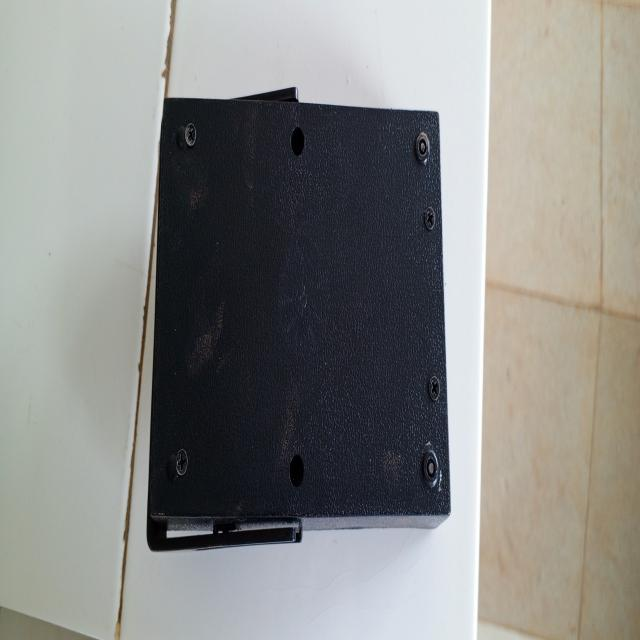Set of Resistances: (138, 72, 458, 568)
